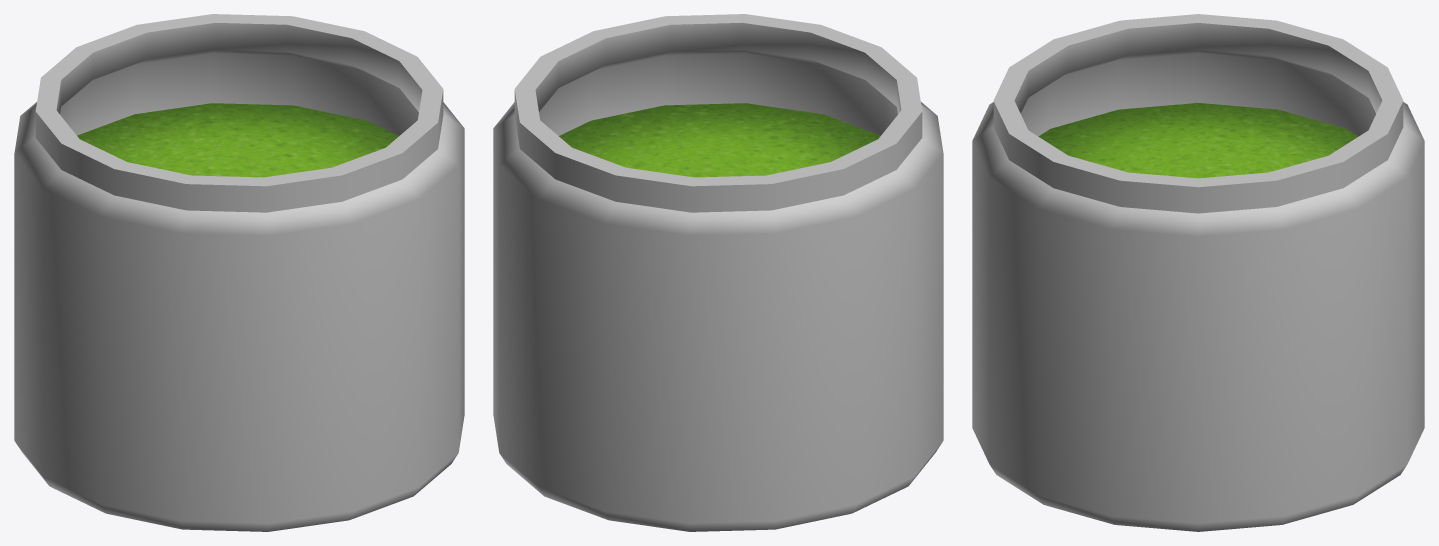
File: Matcha_Tea.fbx
3 views of the same model, side by side, from view 1: azimuth 30°, elevation 25°; view 2: azimuth 150°, elevation 25°; view 3: azimuth 270°, elevation 25° (orthographic).
Visible parts, largest first — view 1: Matcha_Tea; view 2: Matcha_Tea; view 3: Matcha_Tea.
Boxes of the visible parts, box(x1,y1,x2,y2) form: Matcha_Tea: box(14, 14, 464, 531); Matcha_Tea: box(493, 14, 943, 531); Matcha_Tea: box(972, 14, 1424, 531).
Bounding box in the file's own units: 29.93 × 24.72 × 29.93.
